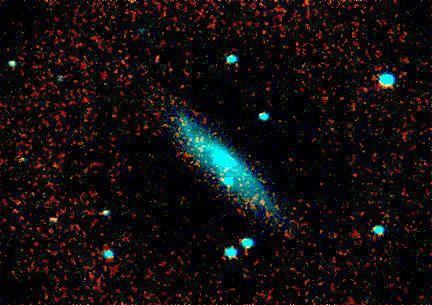star: (244, 184, 274, 214)
